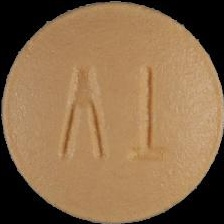66116-503: (0, 0, 224, 224)
